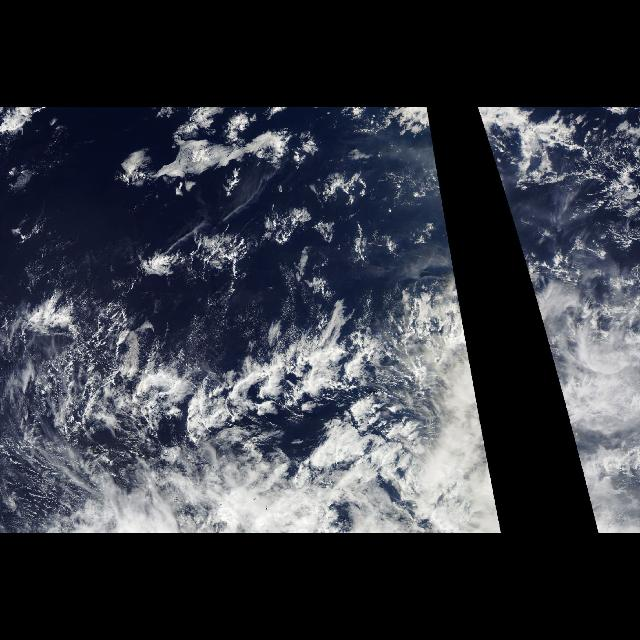Fish: (15, 284, 497, 503)
Flower: (0, 107, 448, 311)
